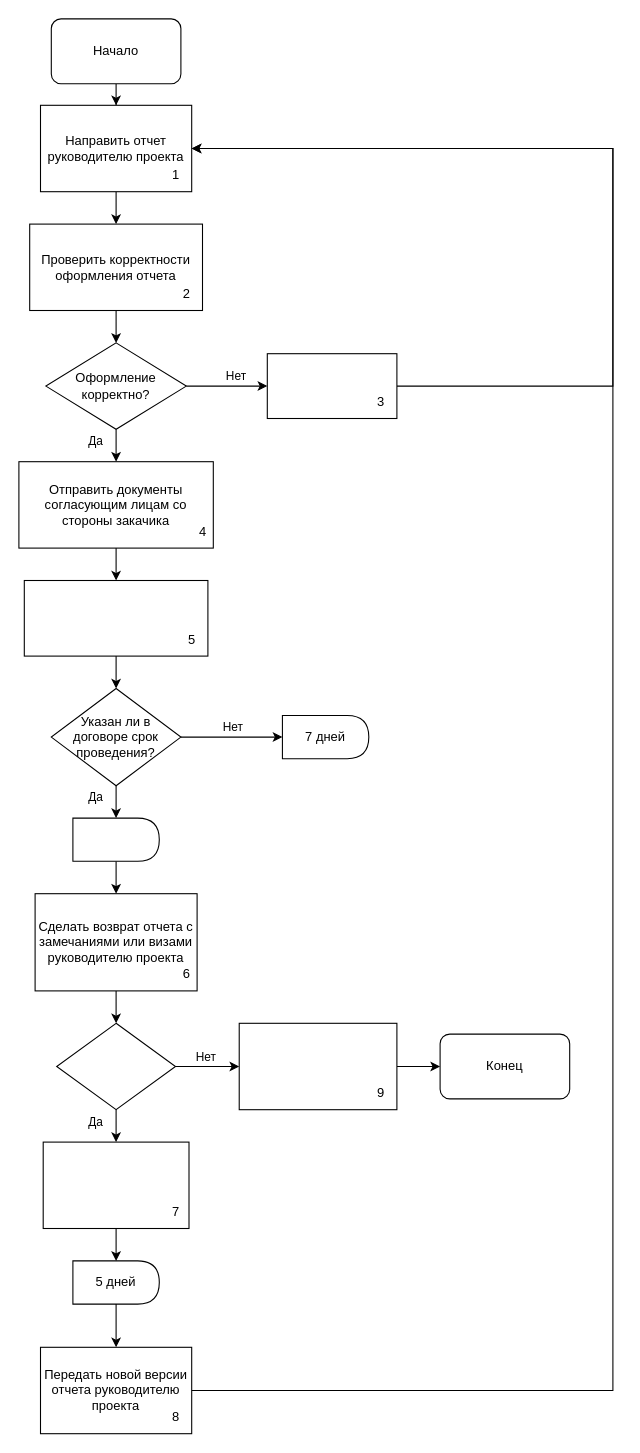
Some shapes in this 640 by 1453 pixel diagram are drawn without their labels. The shapes that lost their labels are listed below. From the top down, each one's box as (x1, y1, x2, y2) in pixels, then its label:
(266, 353, 397, 418): Сделать возврат отчета автору на исправление
(23, 579, 208, 656): Рассмотреть отчеты согласующими лицами
(72, 817, 159, 861): Указанный срок
(56, 1022, 176, 1110): Есть ли замечания?
(238, 1022, 397, 1110): Передать отчета на подпись директору компании
(42, 1141, 189, 1228): Отправить отчета на доработку автору
